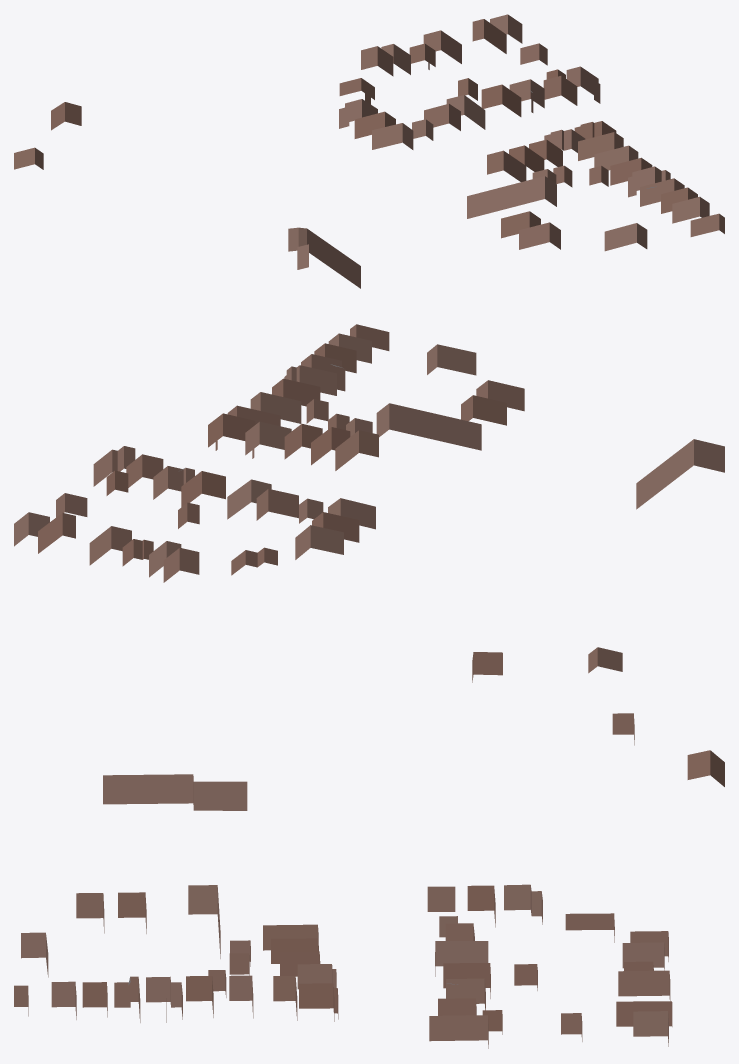
Rendered from c_1632_17822_buildings_residential.glb.
The picture shows the model from 3 angles, top to bottom: view 1: azimuth 30°, elevation 25°; view 2: azimuth 150°, elevation 25°; view 3: azimuth 270°, elevation 25°; orthographic projection. The views are drawn at different scales.
Parts seen in each view (by area): view 1: geometry_0; view 2: geometry_0; view 3: geometry_0.
Part boxes in pixels (left/top/right/bottom): geometry_0: left=14, top=14, right=724, bottom=288; geometry_0: left=14, top=324, right=724, bottom=682; geometry_0: left=14, top=713, right=724, bottom=1048.
Size of the model in its own units: 256 by 11.21 by 243.
